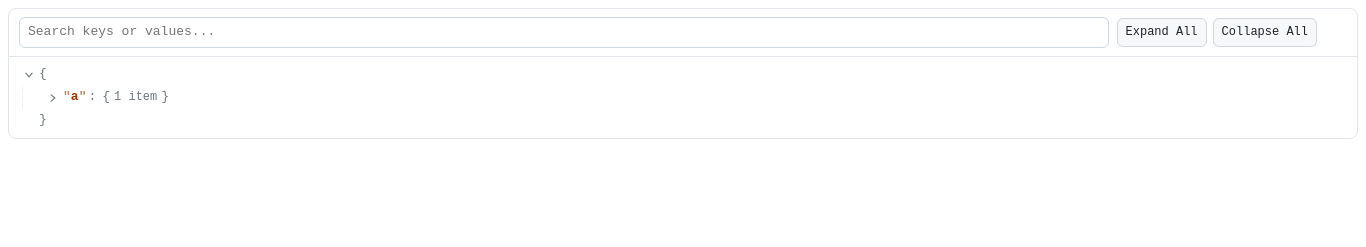
Scenario: JsonViewer - expand/collapse › Expand All reveals nested nodes and Collapse All hides them
The width and height of the screenshot is (1366, 247).
Click the button "Expand All".
click(1162, 32)  # box [1117, 18, 1207, 47]
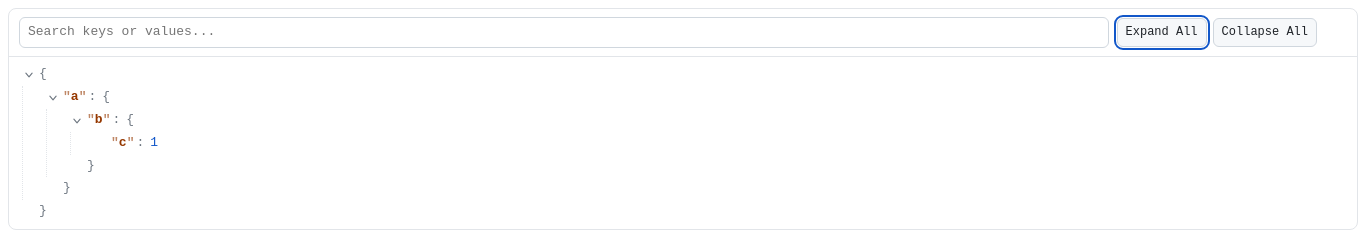
Expected: the text "c" is shown, [119, 135, 127, 150]
Click the button "Collapse All".
click(1265, 32)  # box [1213, 18, 1317, 47]
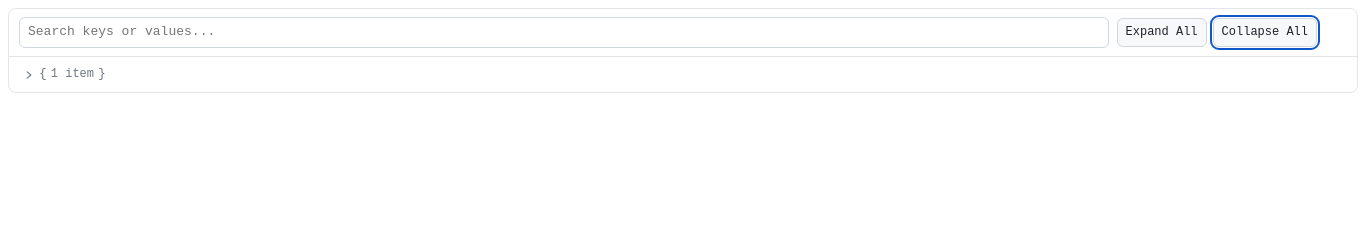
Expected: the text "b" is gone
